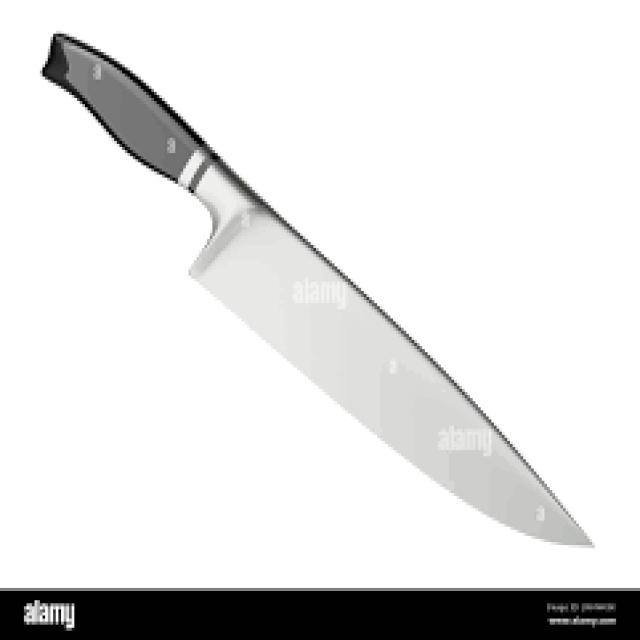Knife: (40, 28, 595, 548)
